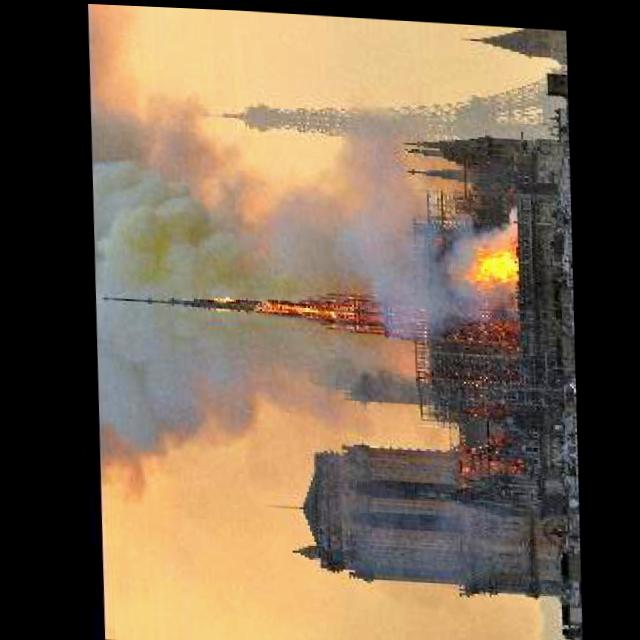helmet: (450, 227, 521, 285)
no_helmet: (84, 112, 455, 507)
